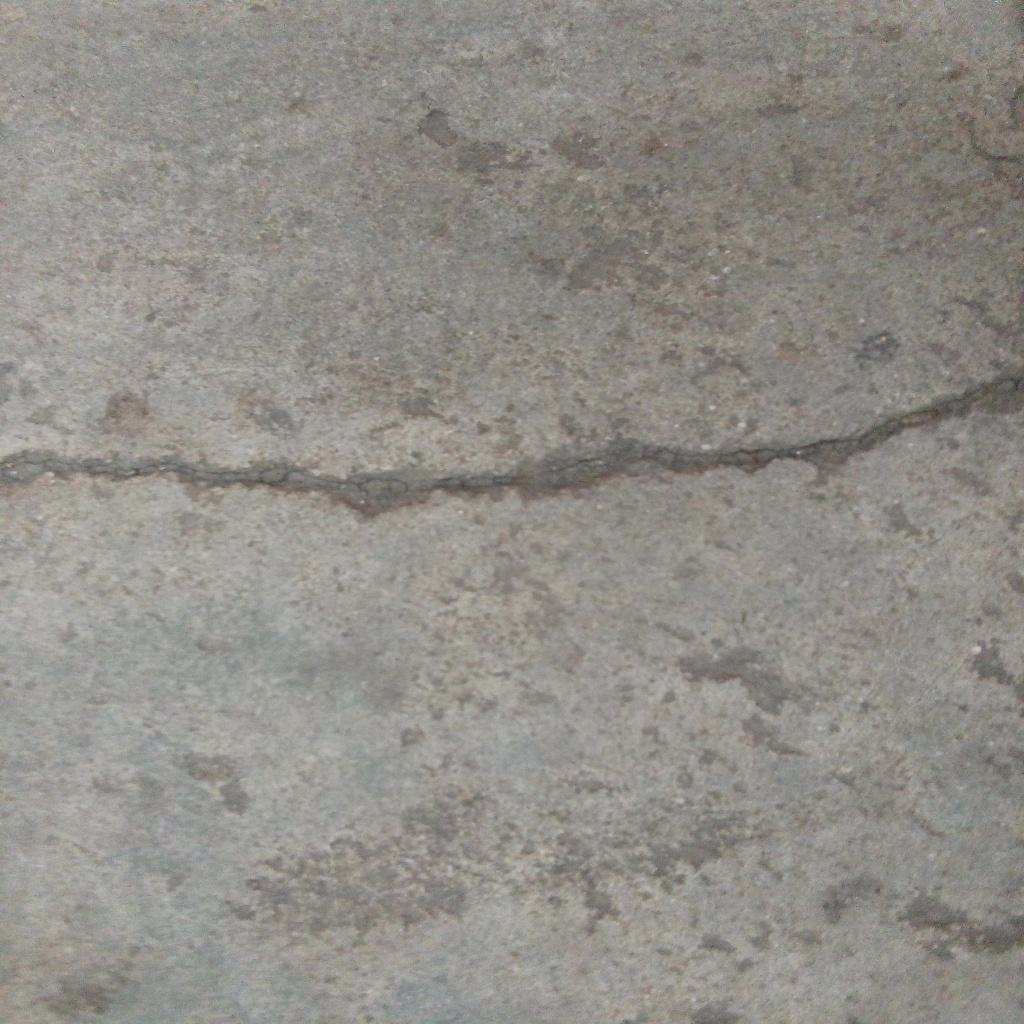Crack: (1, 370, 1024, 522)
